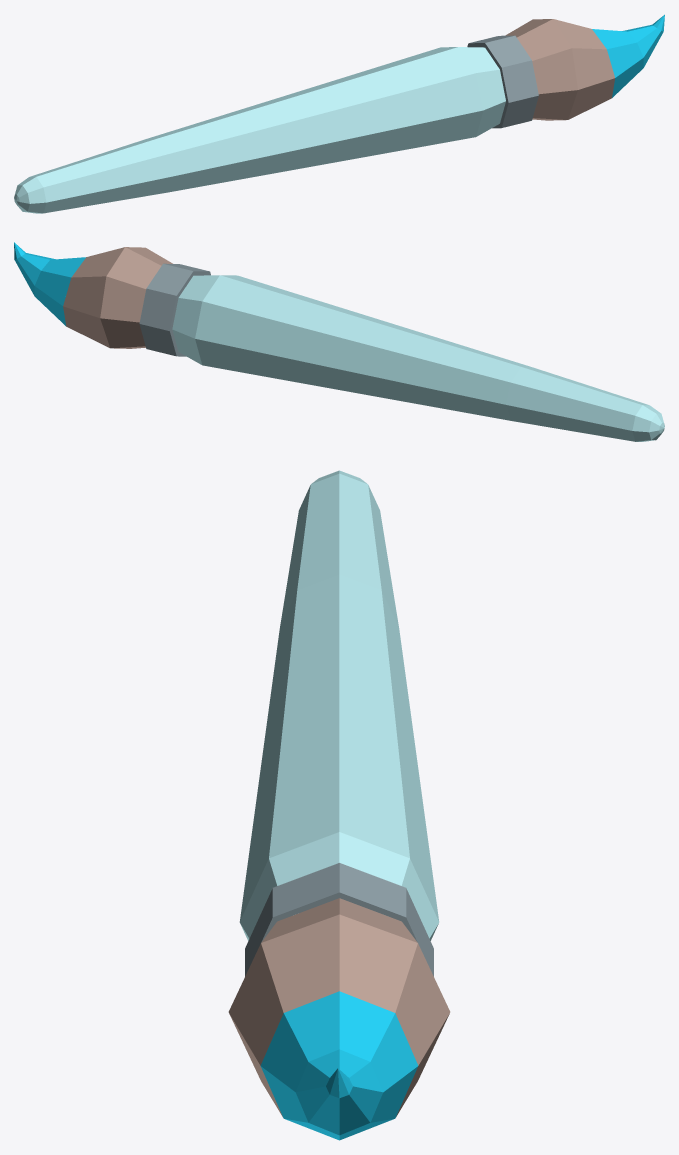
Rendered from brush.gltf.
The picture shows the model from 3 angles, top to bottom: view 1: azimuth 30°, elevation 25°; view 2: azimuth 150°, elevation 25°; view 3: azimuth 270°, elevation 25°; orthographic projection. The views are drawn at different scales.
Visible parts, largest first — view 1: Mesh_0, Mesh_1, Mesh_2, Mesh_3; view 2: Mesh_0, Mesh_1, Mesh_2, Mesh_3; view 3: Mesh_0, Mesh_1, Mesh_3, Mesh_2.
Part boxes in pixels (left/top/right/bottom): Mesh_0: left=14, top=47, right=505, bottom=213; Mesh_1: left=505, top=19, right=614, bottom=120; Mesh_2: left=467, top=35, right=538, bottom=128; Mesh_3: left=592, top=14, right=664, bottom=97; Mesh_0: left=172, top=275, right=664, bottom=441; Mesh_1: left=63, top=247, right=172, bottom=348; Mesh_2: left=139, top=263, right=210, bottom=356; Mesh_3: left=14, top=242, right=85, bottom=326; Mesh_0: left=239, top=470, right=439, bottom=940; Mesh_1: left=228, top=898, right=450, bottom=1116; Mesh_3: left=260, top=991, right=418, bottom=1140; Mesh_2: left=245, top=863, right=433, bottom=976.
Size of the model in its own units: 3.04 by 0.4493 by 0.4501.
